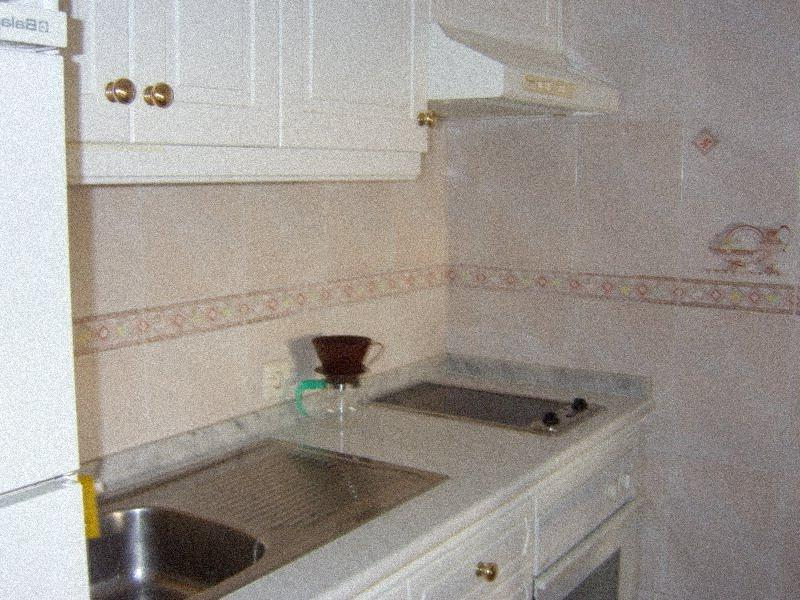Electrodomestico: (0, 41, 64, 598), (530, 416, 648, 599)
Lavaplatos: (84, 429, 444, 594)
